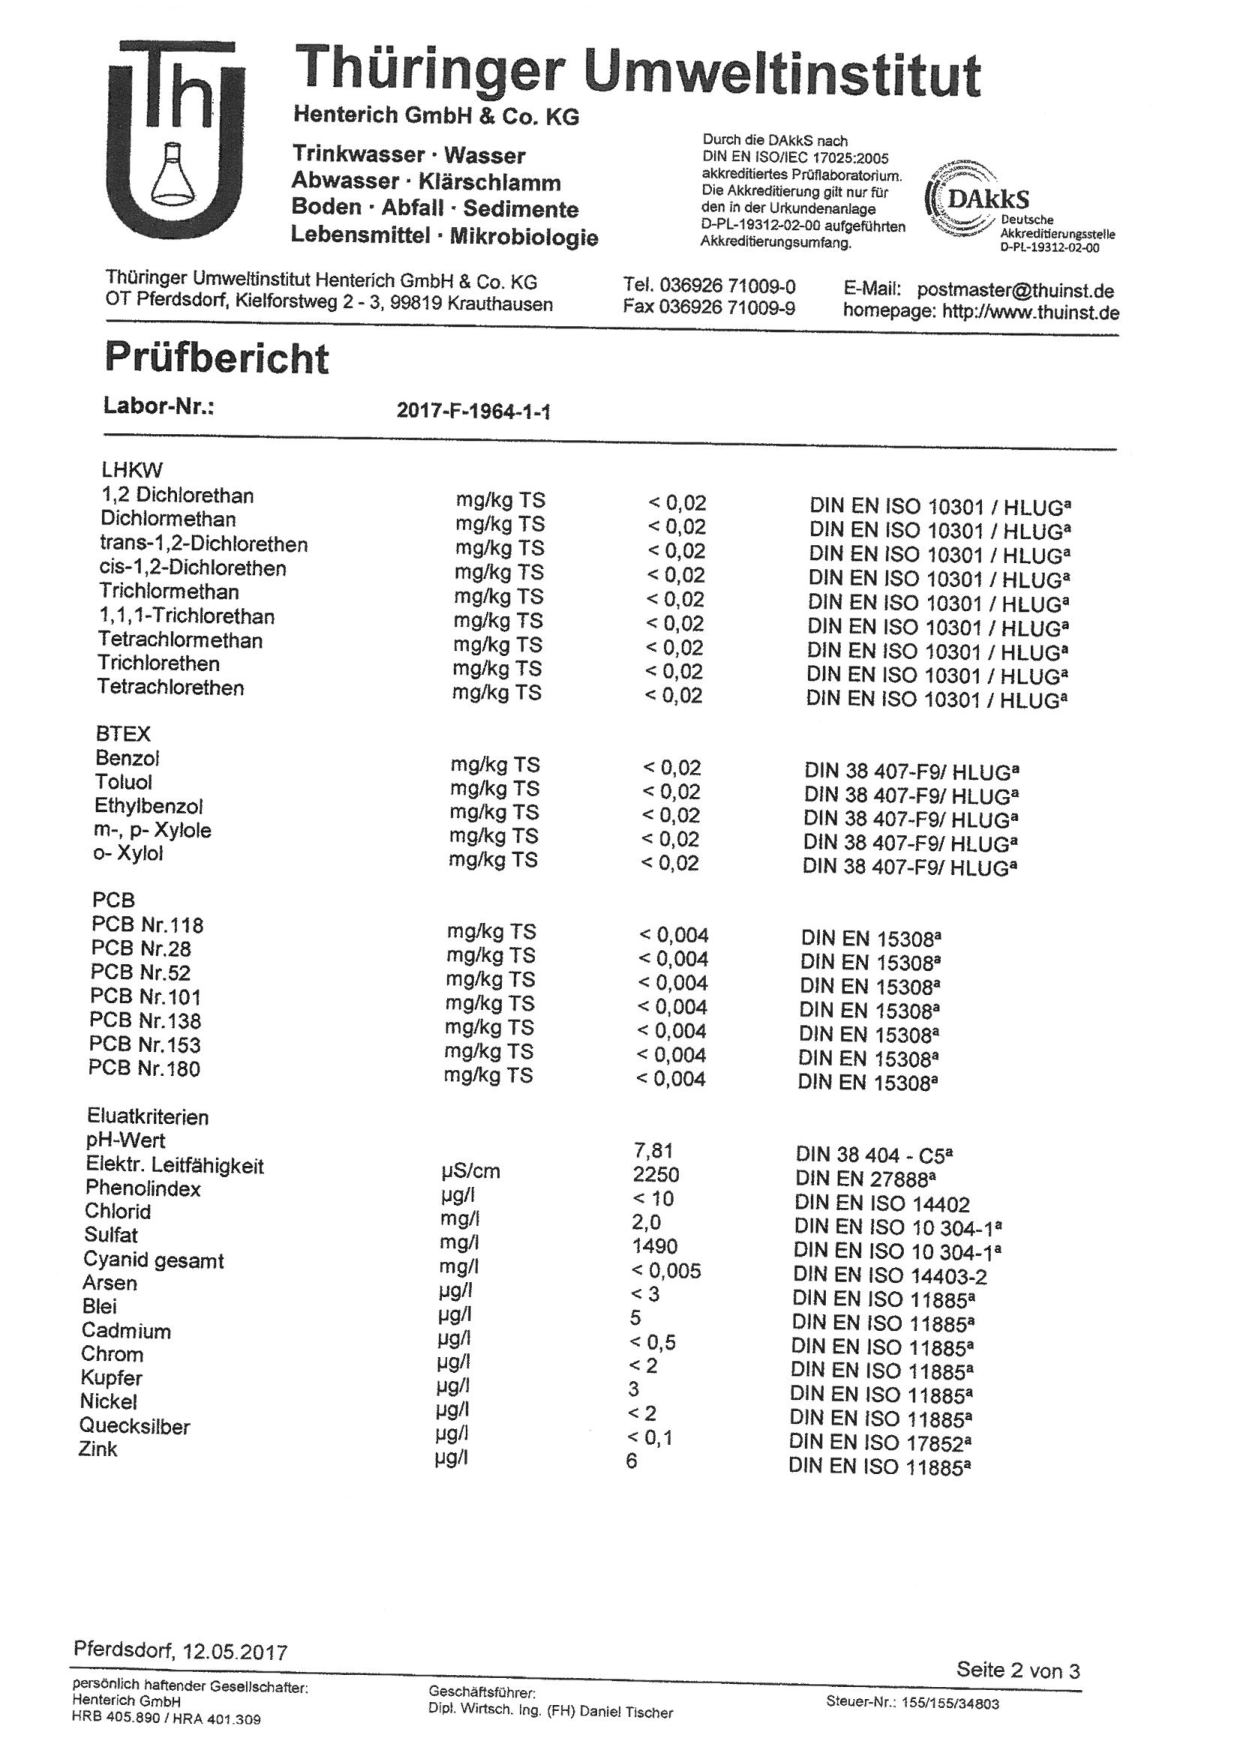table: (42, 1097, 1068, 1490), (56, 452, 1146, 711), (72, 885, 980, 1098), (72, 717, 1039, 881)
